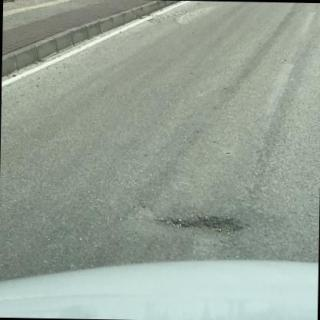pothole: (158, 216, 247, 234)
